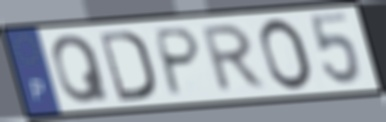5: (307, 10, 364, 90)
D: (96, 28, 157, 104)
O: (258, 16, 316, 93)
P: (153, 26, 203, 99)
Q: (50, 33, 112, 106)
R: (200, 21, 270, 95)
